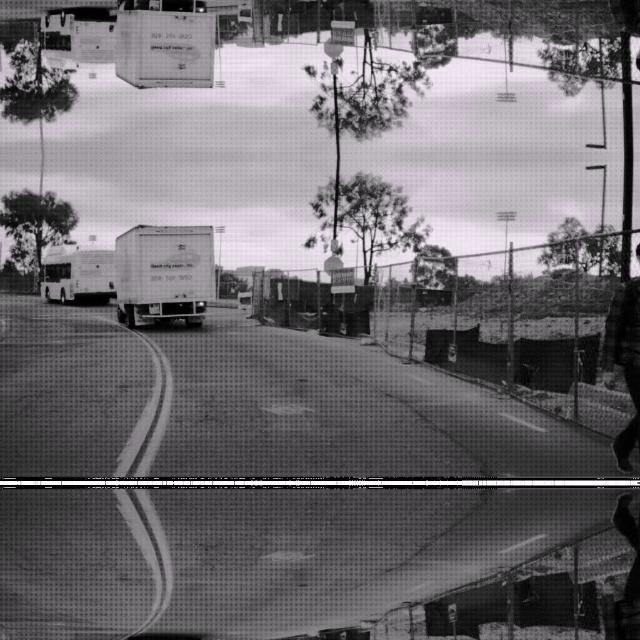stop: (322, 254, 343, 276), (322, 36, 343, 58)
